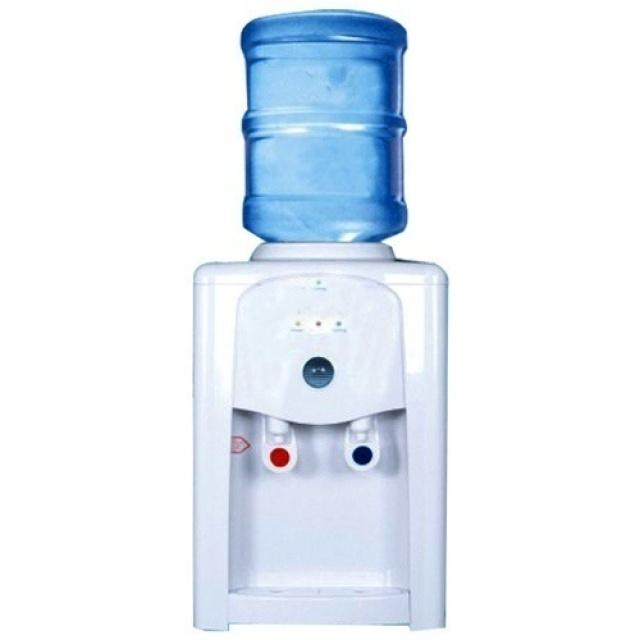Dispenser: (194, 7, 447, 630)
